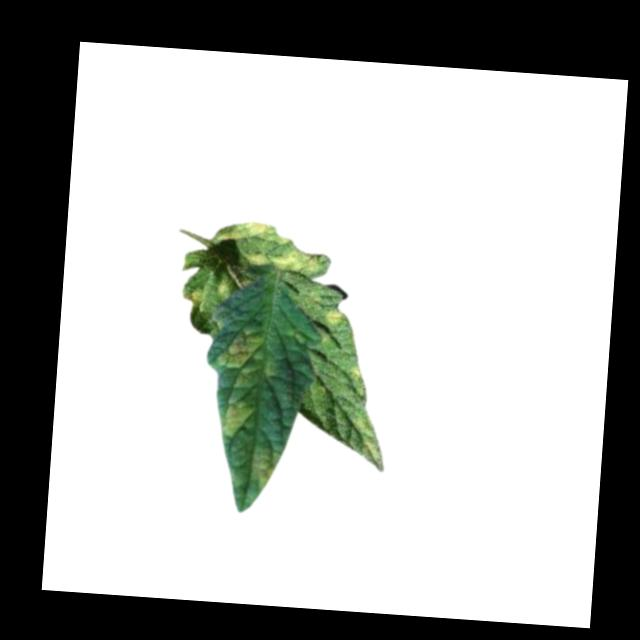Leaf_Mold: (217, 217, 325, 277), (220, 320, 271, 373), (218, 393, 256, 442), (250, 443, 283, 491), (321, 304, 344, 332)
